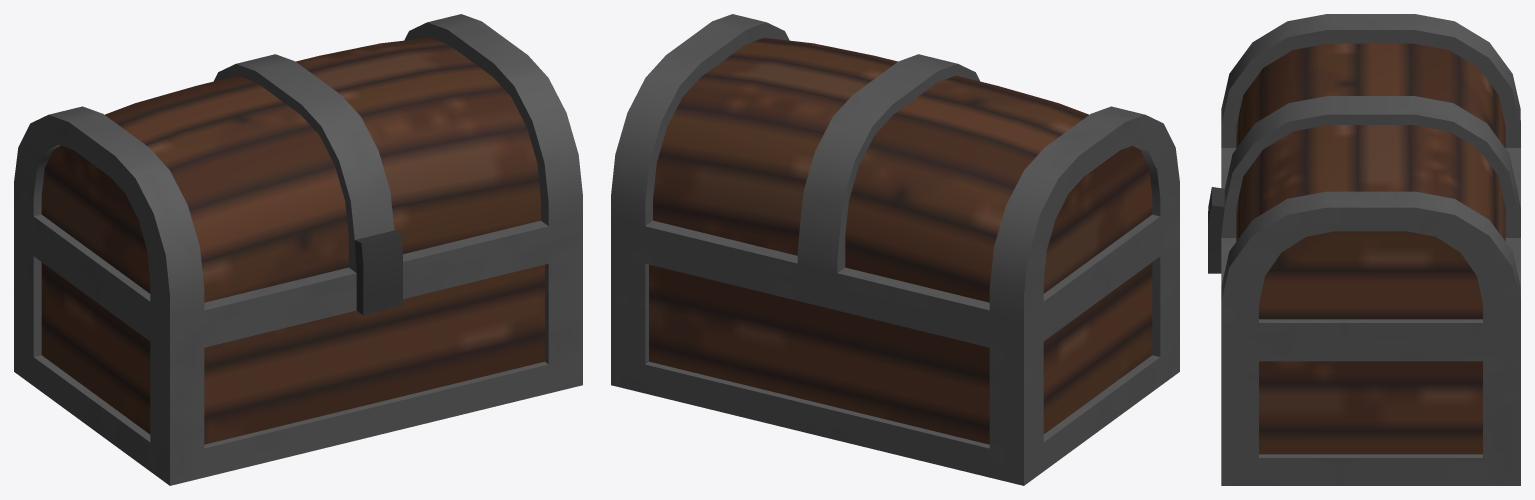
Rendered from Chest1.fbx.
The picture shows the model from 3 angles, left to right: view 1: azimuth 30°, elevation 25°; view 2: azimuth 150°, elevation 25°; view 3: azimuth 270°, elevation 25°; orthographic projection. The views are drawn at different scales.
Parts seen in each view (by area): view 1: Chest1P2, Chest1P1; view 2: Chest1P2, Chest1P1; view 3: Chest1P2, Chest1P1.
Part boxes in pixels (left/top/right/bottom): Chest1P2: left=14, top=14, right=582, bottom=332; Chest1P1: left=14, top=219, right=582, bottom=485; Chest1P2: left=611, top=14, right=1179, bottom=332; Chest1P1: left=611, top=219, right=1179, bottom=485; Chest1P2: left=1208, top=14, right=1520, bottom=339; Chest1P1: left=1208, top=251, right=1520, bottom=485.
Size of the model in its own units: 107 by 73.21 by 73.11.
